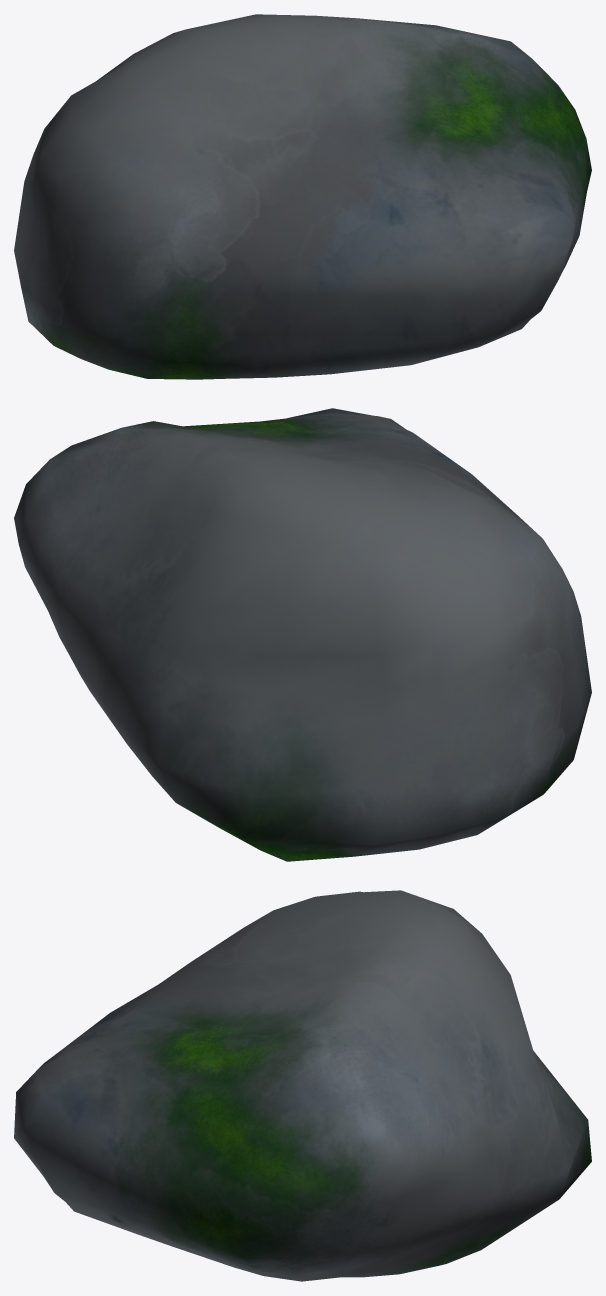
Rendered from Rock1.glb.
3 views of the same model, one above another, from view 1: azimuth 30°, elevation 25°; view 2: azimuth 150°, elevation 25°; view 3: azimuth 270°, elevation 25° (orthographic). The views are drawn at different scales.
Parts seen in each view (by area): view 1: Rock1_LP; view 2: Rock1_LP; view 3: Rock1_LP.
Part boxes in pixels (x1=…): Rock1_LP: x1=14, y1=14, x2=591, y2=379; Rock1_LP: x1=14, y1=408, x2=591, y2=861; Rock1_LP: x1=14, y1=890, x2=591, y2=1281.
Size of the model in its own units: 1.83 by 1.13 by 1.77.
1 material, 1 textured.
